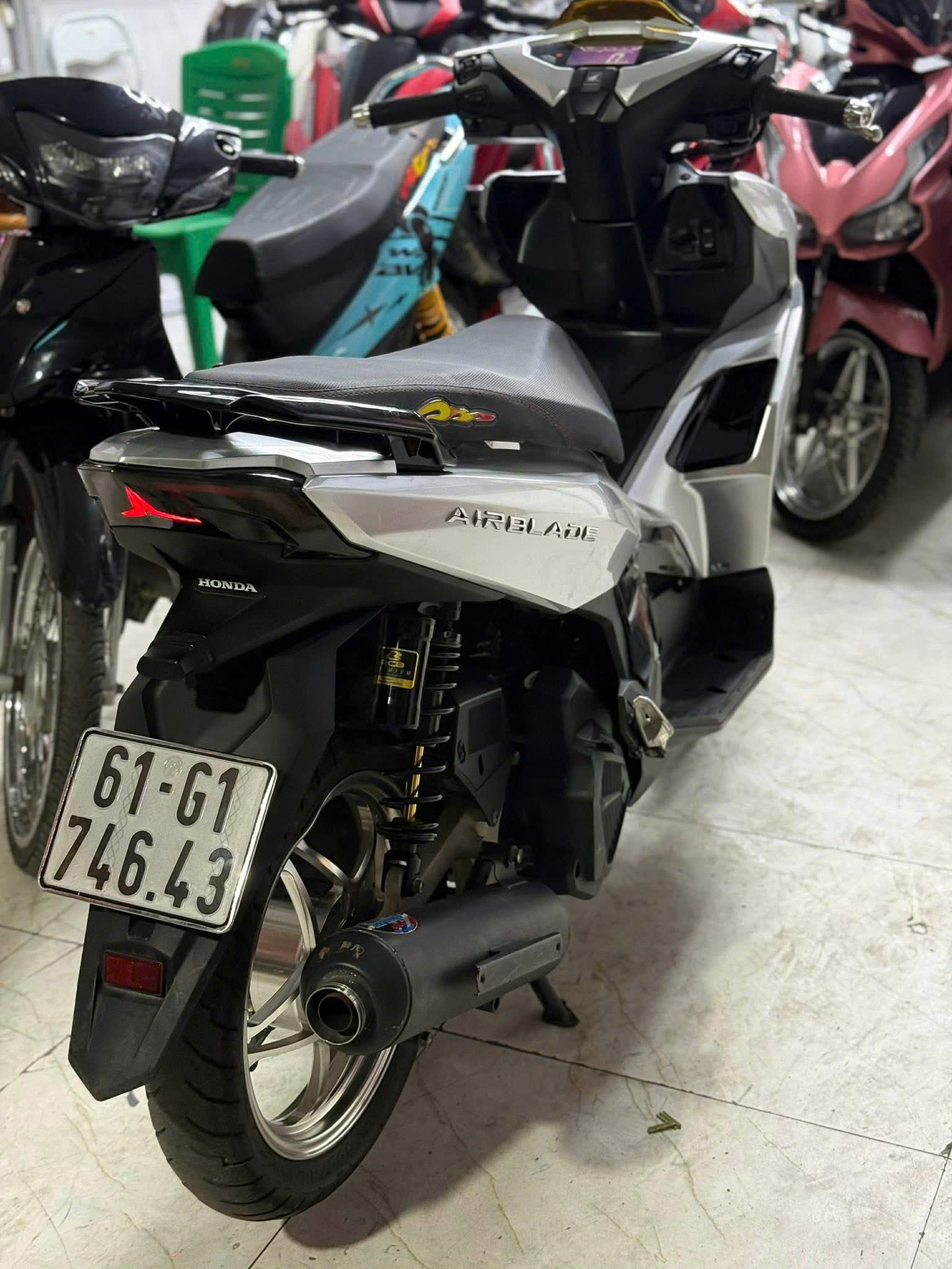Bien-so: (41, 717, 280, 942)
